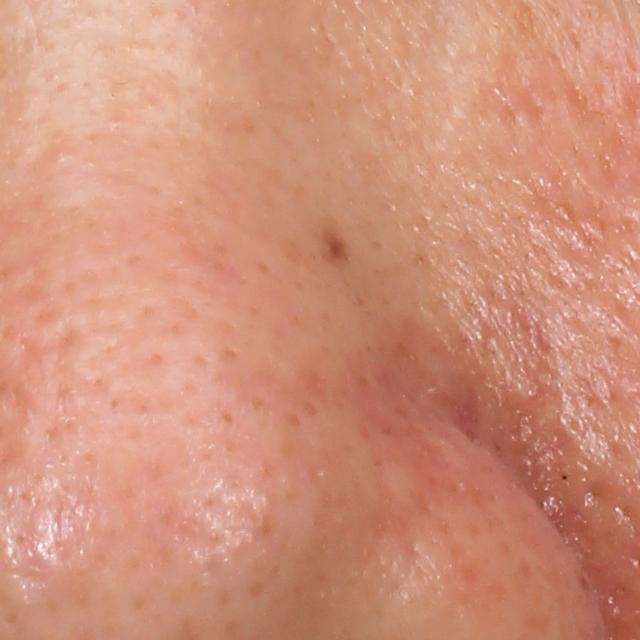nevus: (322, 234, 349, 265)
